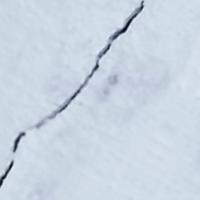crack: (0, 0, 149, 199)
